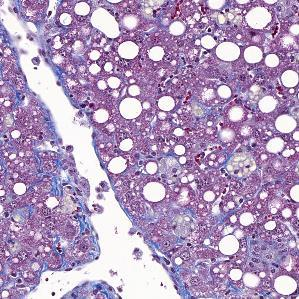fibrosis: (166, 217, 240, 269), (34, 163, 86, 221)
